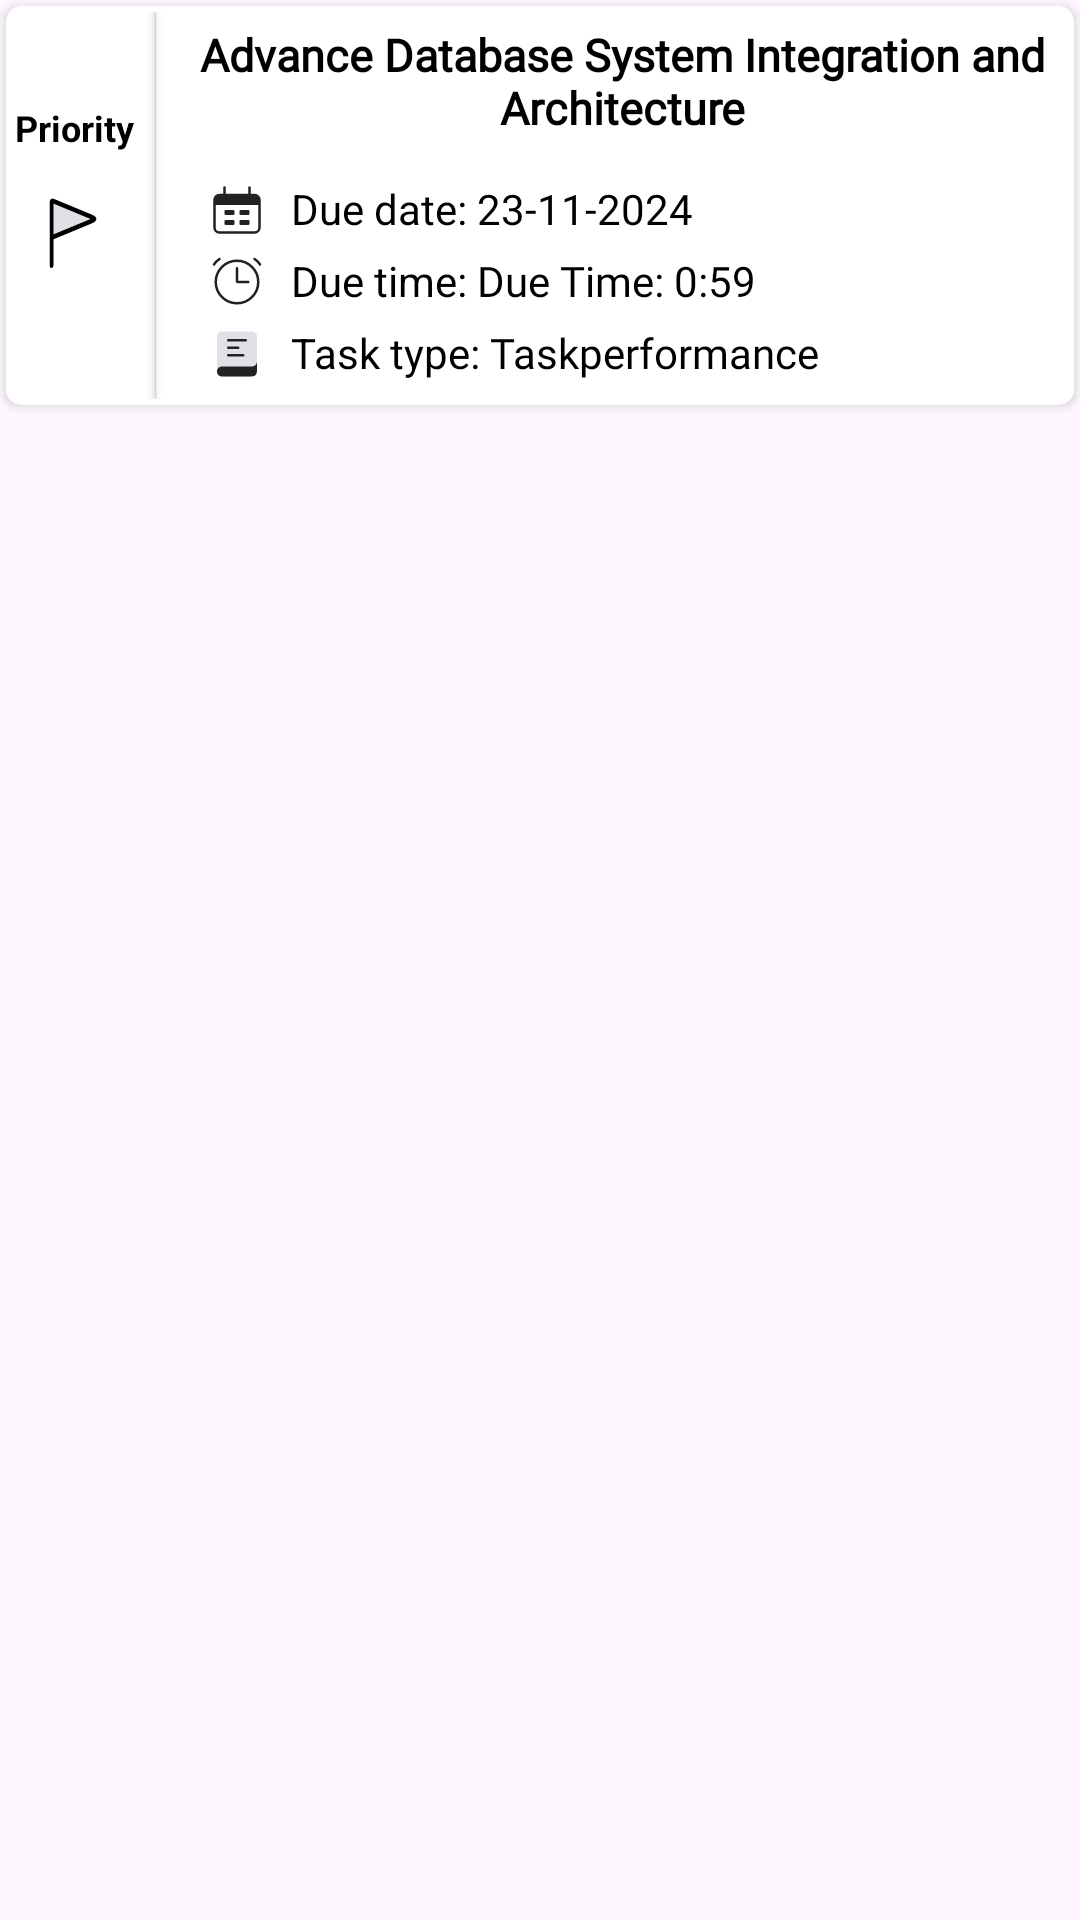

Icons on this 1080 x 1920 Android screen, each with the point to tap as (x=x, y=y):
book duotone: (x=237, y=354)
clock: (x=237, y=281)
date range: (x=237, y=210)
flag duotone line: (x=73, y=233)
